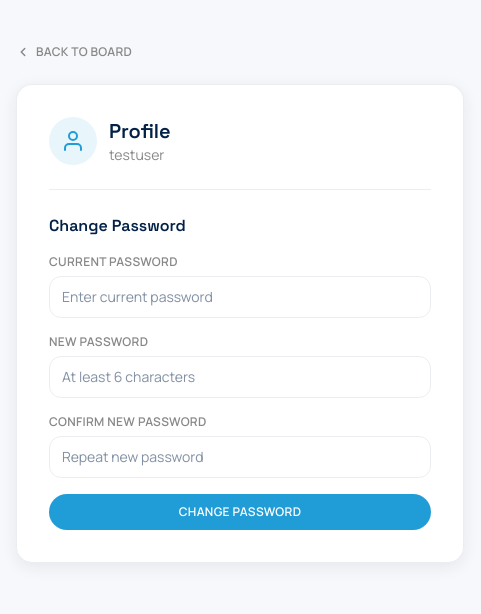
ProfilePage › shows error when new passwords do not match
The image size is (481, 614).
Type "oldpass" into the password field with test id "current-password-input". click: (240, 296)
box: left=49, top=276, right=431, bottom=318
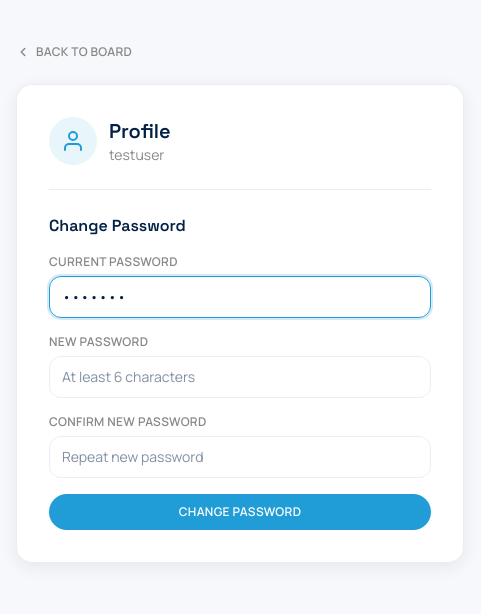
Type "newpass1" into the password field with test id "new-password-input". click: (240, 376)
box: left=49, top=356, right=431, bottom=398
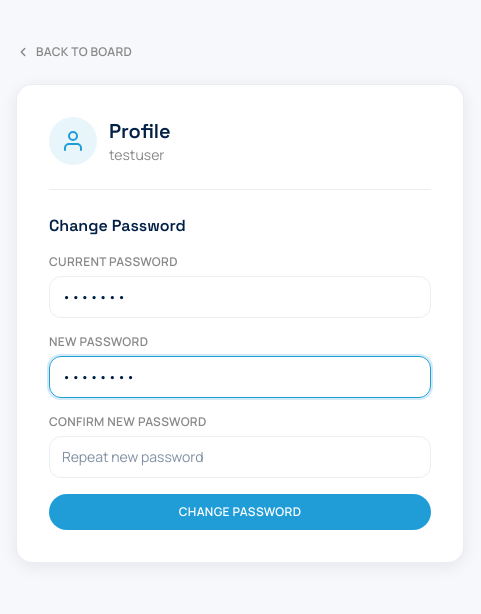
Type "newpass2" into the password field with test id "confirm-password-input". click: (240, 456)
box: left=49, top=436, right=431, bottom=478
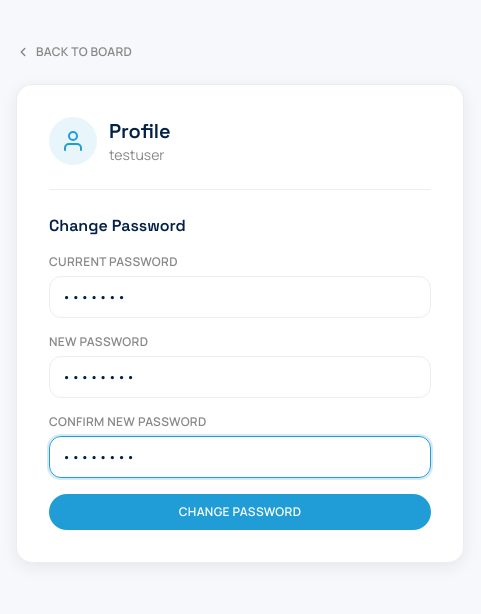
Click the button with test id "change-password-btn". click: (240, 512)
box: left=49, top=494, right=431, bottom=530
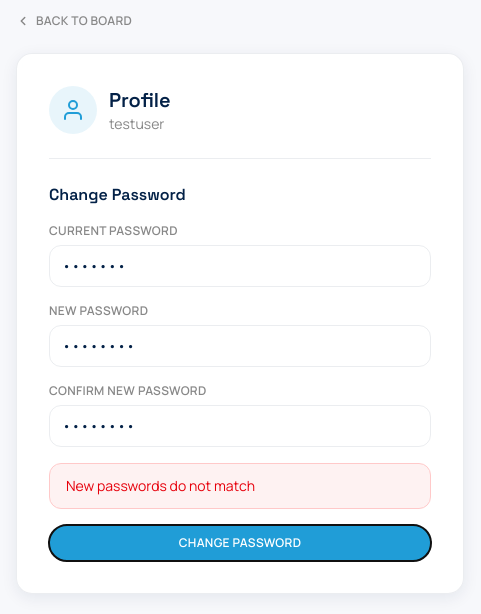
expect the text with test id "profile-error" shows "do not match": met, box left=66, top=476, right=255, bottom=494
